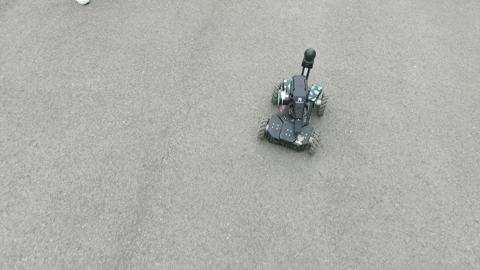chariot: (256, 47, 327, 155)
